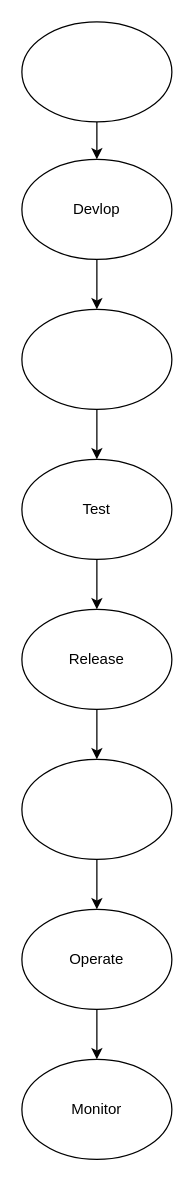
The diagram is 194 pixels wide and 1181 high, and some of its shapes have lost their labels. Each missing label, with the box of its shape:
Built: (21, 308, 172, 409)
Deploy: (21, 758, 172, 859)
Plan: (21, 21, 172, 122)
